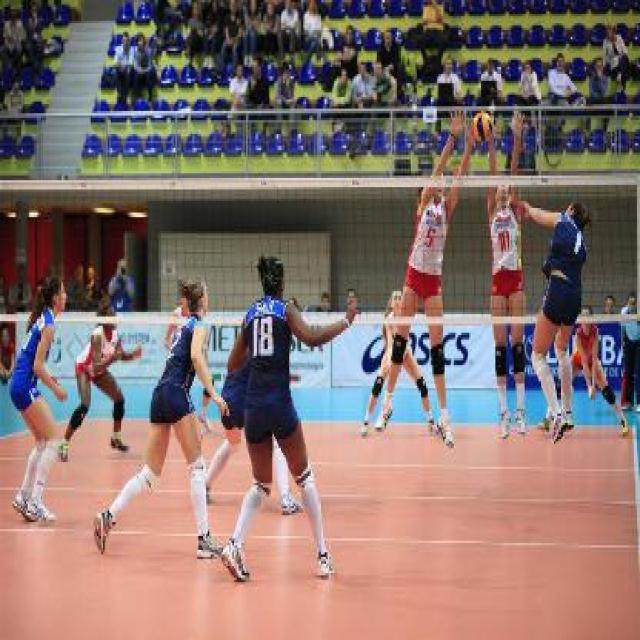volleyball: (472, 113, 492, 140)
